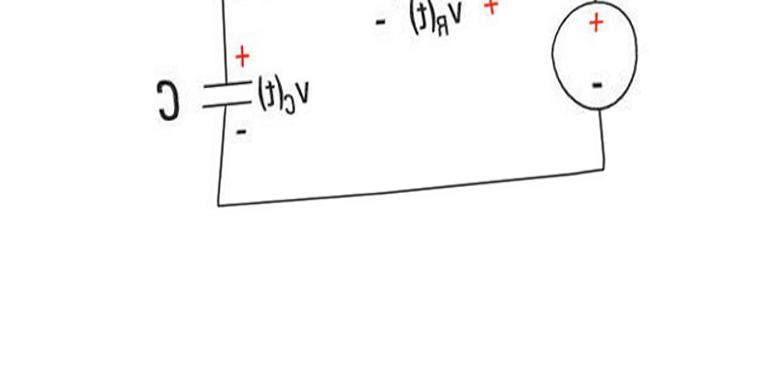Battery: (530, 0, 674, 122)
